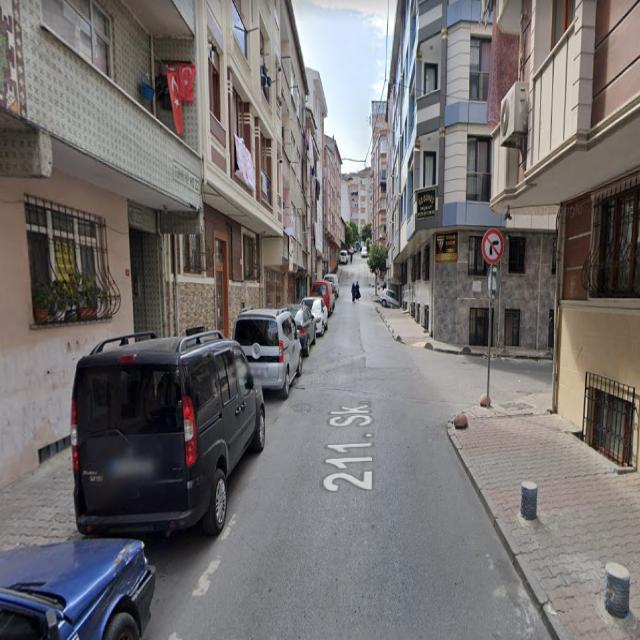sagadonulmez: (482, 229, 505, 266)
